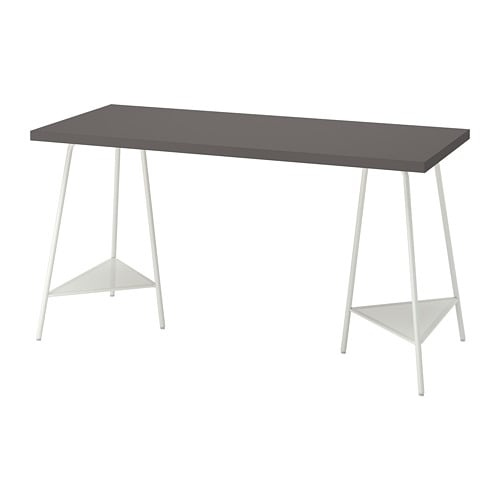obstacle: (30, 104, 469, 394)
